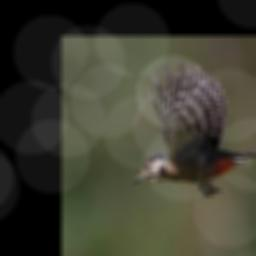Woodpecker: (128, 64, 256, 195)
